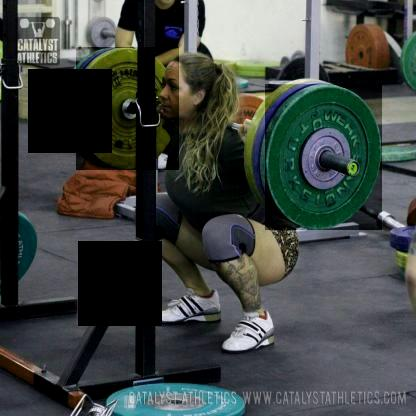barbell: (265, 85, 382, 231), (77, 48, 180, 170)
